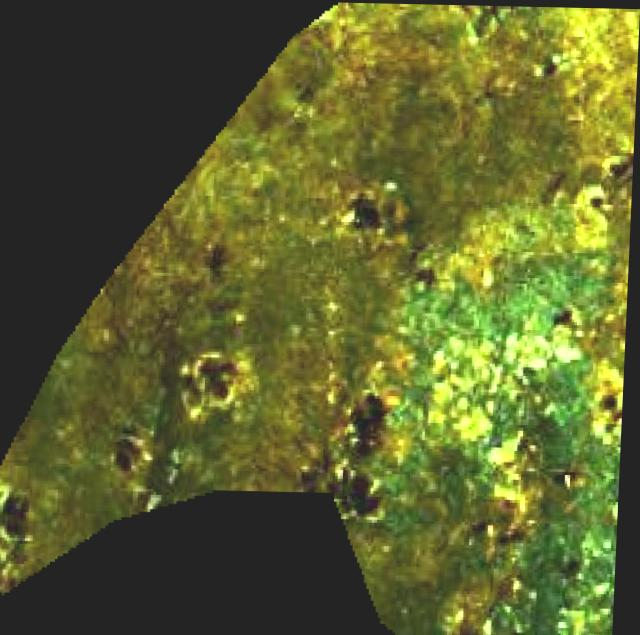Pitting Corrosion: (0, 1, 640, 635)
